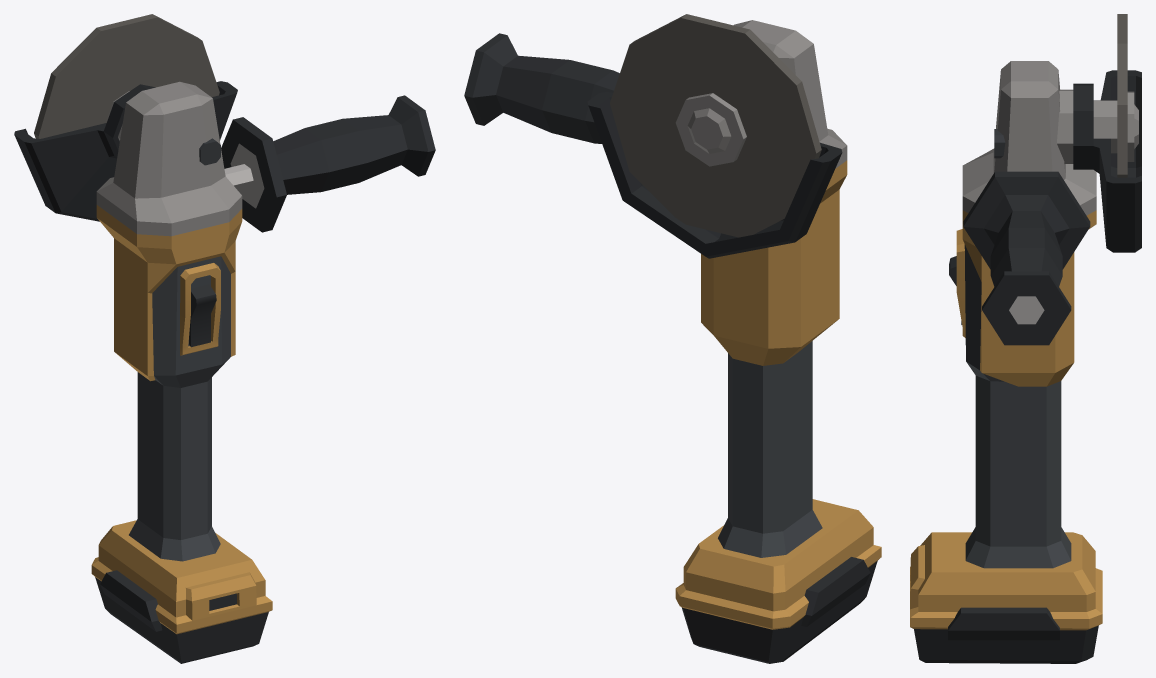
The model's file is SM_Tool_Angle_Grinder_01.fbx.
3 renders of one model, left to right at view 1: azimuth 30°, elevation 25°; view 2: azimuth 150°, elevation 25°; view 3: azimuth 270°, elevation 25°, orthographic. The views are drawn at different scales.
Parts seen in each view (by area): view 1: SM_Tool_Angle_Grinder_01, SM_Tool_Angle_Grinder_01_Disk, SM_Tool_Angle_Grinder_01_Battery, SM_Tool_Angle_Grinder_01_Trigger; view 2: SM_Tool_Angle_Grinder_01, SM_Tool_Angle_Grinder_01_Disk, SM_Tool_Angle_Grinder_01_Battery; view 3: SM_Tool_Angle_Grinder_01, SM_Tool_Angle_Grinder_01_Battery, SM_Tool_Angle_Grinder_01_Disk.
Part boxes in pixels (x1=…): SM_Tool_Angle_Grinder_01: x1=14, y1=81, x2=435, y2=617; SM_Tool_Angle_Grinder_01_Disk: x1=34, y1=14, x2=219, y2=138; SM_Tool_Angle_Grinder_01_Battery: x1=91, y1=557, x2=272, y2=663; SM_Tool_Angle_Grinder_01_Trigger: x1=189, y1=284, x2=216, y2=347; SM_Tool_Angle_Grinder_01: x1=464, y1=20, x2=873, y2=611; SM_Tool_Angle_Grinder_01_Disk: x1=610, y1=14, x2=821, y2=237; SM_Tool_Angle_Grinder_01_Battery: x1=675, y1=545, x2=881, y2=663; SM_Tool_Angle_Grinder_01: x1=918, y1=61, x2=1141, y2=611; SM_Tool_Angle_Grinder_01_Battery: x1=910, y1=545, x2=1102, y2=663; SM_Tool_Angle_Grinder_01_Disk: x1=1117, y1=14, x2=1127, y2=177.
Bounding box in the file's own units: 39.55 × 60.96 × 20.81.
